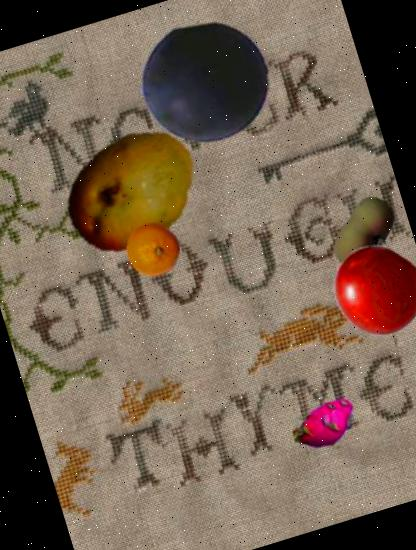Cherry: (320, 232, 416, 349)
Grape: (124, 3, 286, 163)
Lemon: (121, 215, 188, 282)
Papaya: (44, 102, 221, 280)
Peach: (317, 184, 414, 282)
Pitahaya: (284, 384, 366, 466)
